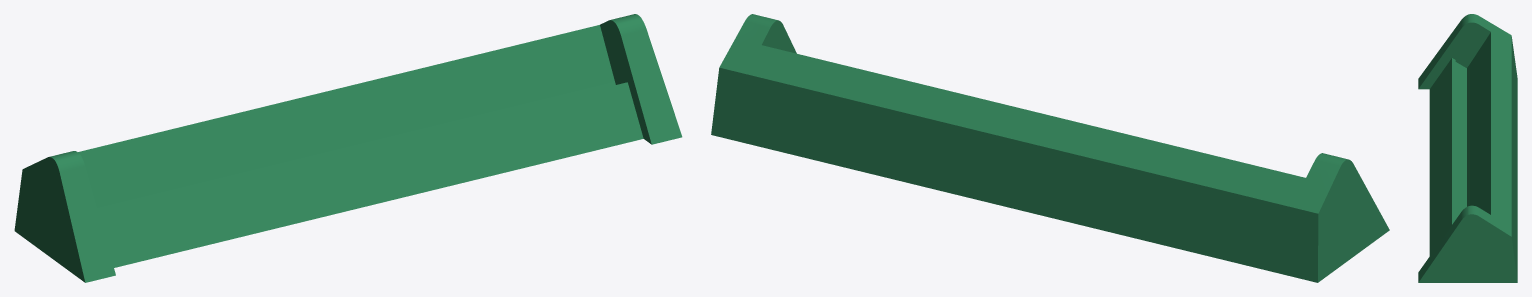
The model's file is ScrabbleRack.fbx.
3 views of the same model, side by side, from view 1: azimuth 30°, elevation 25°; view 2: azimuth 150°, elevation 25°; view 3: azimuth 270°, elevation 25° (orthographic). The views are drawn at different scales.
Parts seen in each view (by area): view 1: group_0; view 2: group_0; view 3: group_0.
Boxes of the visible parts, x1=… form: group_0: x1=14, y1=14, x2=682, y2=282; group_0: x1=711, y1=14, x2=1389, y2=282; group_0: x1=1418, y1=14, x2=1517, y2=282.
Bounding box in the file's own units: 963 × 147 × 198.
